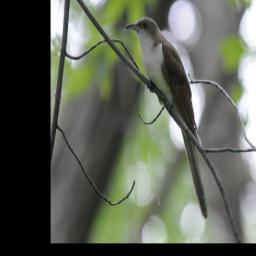Cuckoo: (125, 13, 211, 223)
